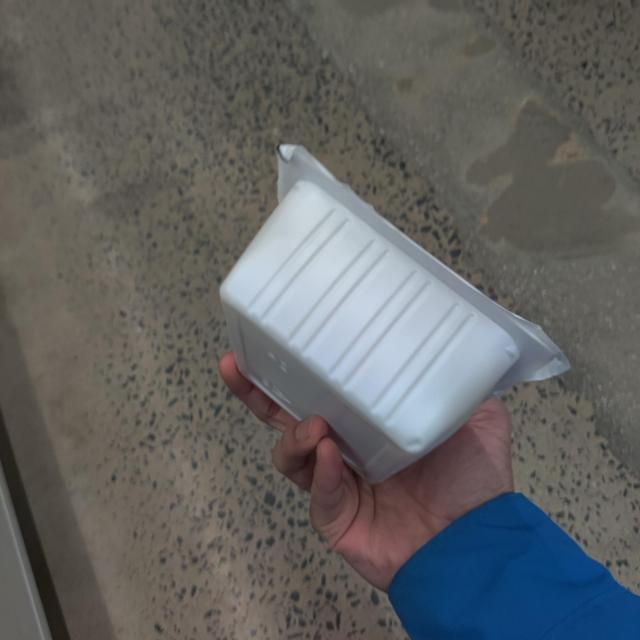Tofu: (210, 145, 582, 492)
